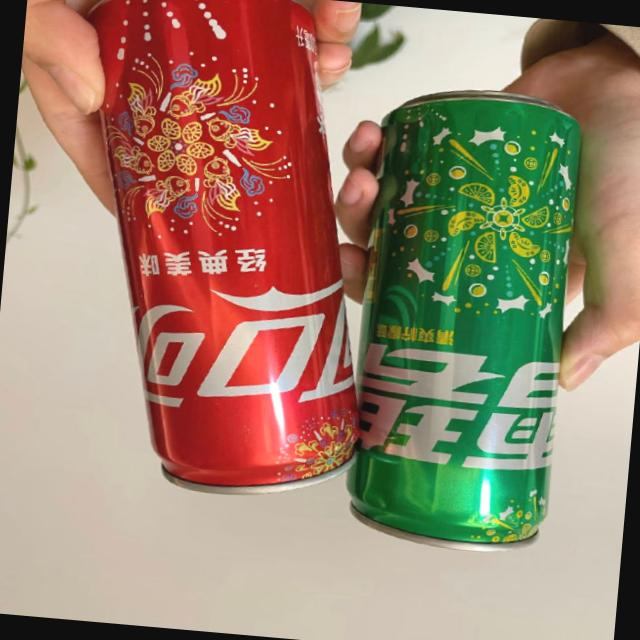can: (40, 0, 403, 510), (338, 77, 595, 560)
